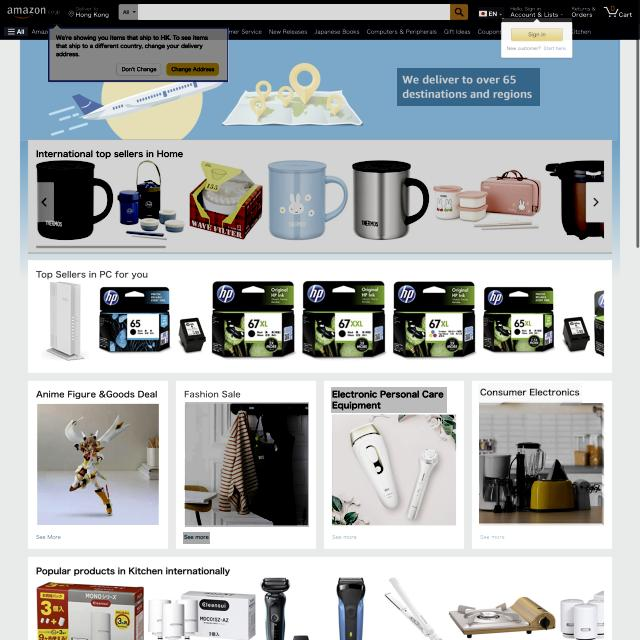CheckBox: (166, 61, 220, 77), (510, 27, 565, 42), (117, 62, 162, 77), (600, 3, 634, 22), (35, 530, 65, 542), (183, 532, 210, 544), (478, 532, 510, 542), (332, 532, 359, 543), (450, 4, 468, 20)
CheckedTextView: (118, 3, 470, 21)
Switch: (28, 139, 612, 254)
alert: (478, 7, 504, 19), (119, 4, 138, 20)
bag: (1, 0, 638, 40)
breadcrumbs: (331, 387, 447, 413), (29, 263, 158, 282), (478, 384, 582, 404), (34, 386, 162, 401), (180, 386, 243, 400)
card: (20, 40, 618, 141)
copy: (185, 402, 309, 527), (37, 402, 160, 526), (479, 404, 604, 526), (333, 414, 456, 526)
date picker: (5, 4, 63, 20)
decoration: (4, 27, 28, 36)
image: (397, 68, 540, 106)
label: (48, 24, 228, 82), (502, 18, 572, 58)
